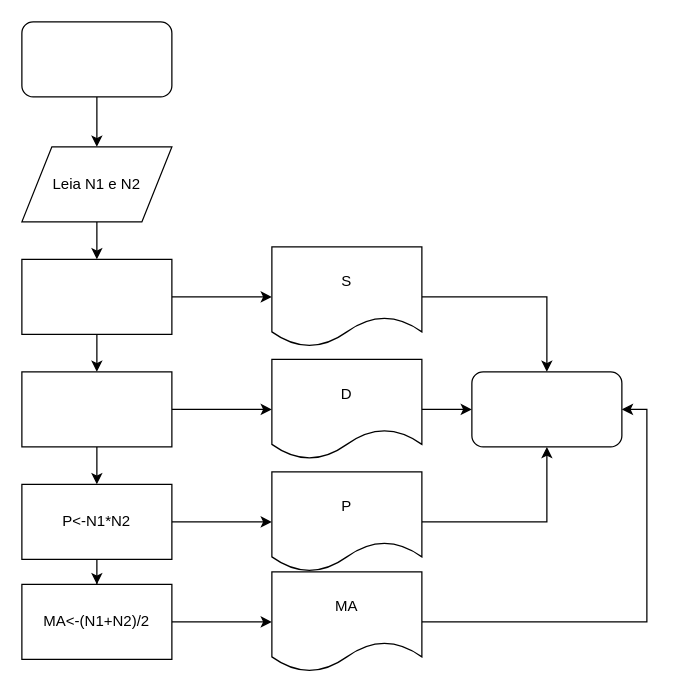
This 679x694 diagram has some shape labels left out. The shapes that lost their labels are listed below. From the top down, each one's centre as x and y in pixels, then its label:
At [96,59]: "INICIO".
At [96,296]: "S<-N1+N2".
At [96,409]: "D<-N1-N2".
At [546,409]: "FIMALGORITMO".
